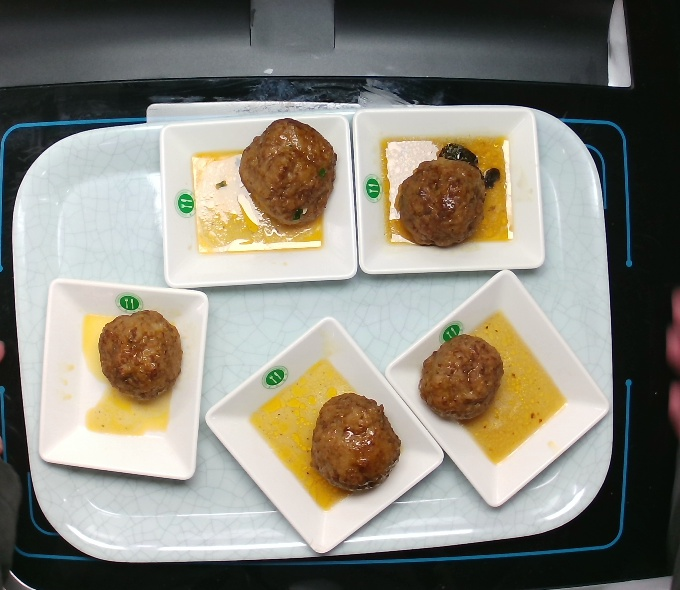wcq-ShiZiTou: (231, 117, 342, 230), (388, 140, 503, 249), (304, 389, 404, 499), (410, 324, 511, 422), (92, 307, 184, 402)
